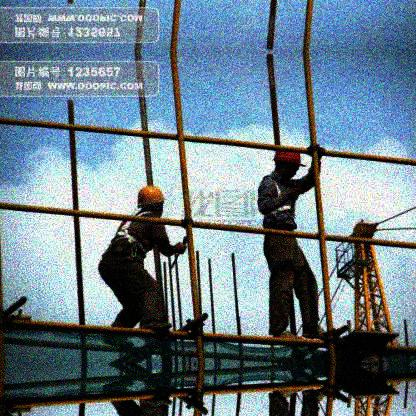helmet: (273, 146, 304, 180), (136, 186, 167, 219)
